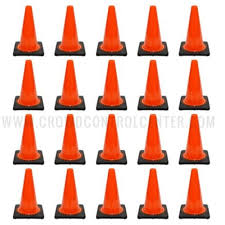cones: (9, 169, 45, 222), (54, 166, 88, 221)
